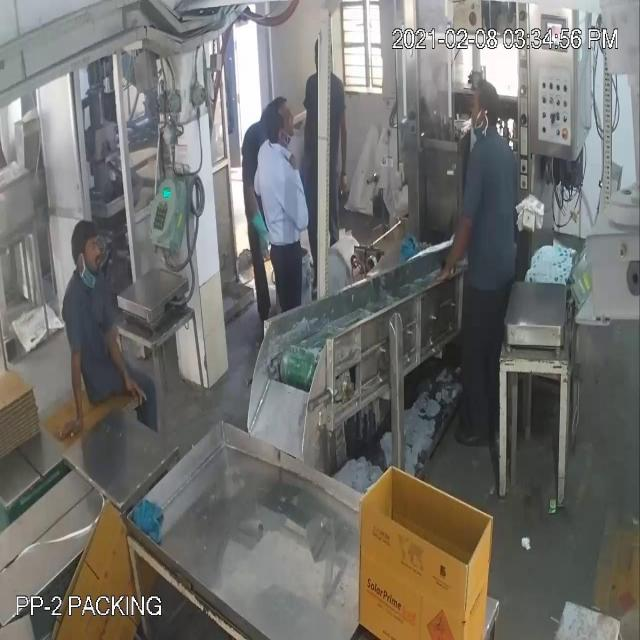No_Gloves: (16, 77, 450, 386)
